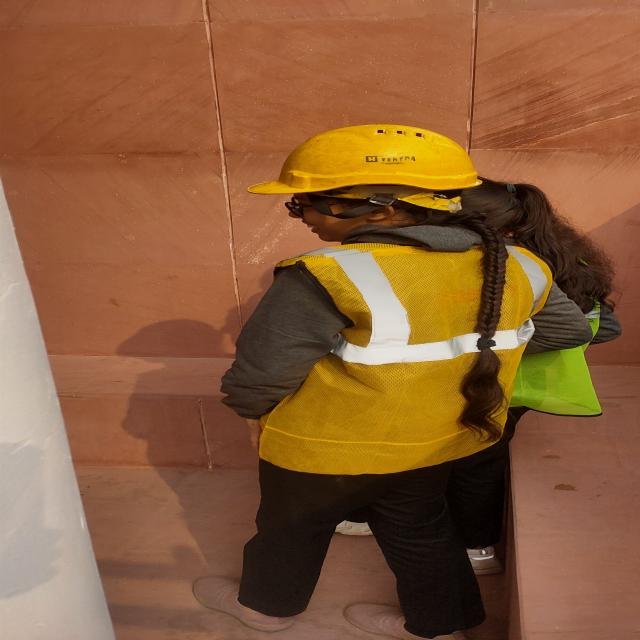safe: (227, 120, 547, 634)
